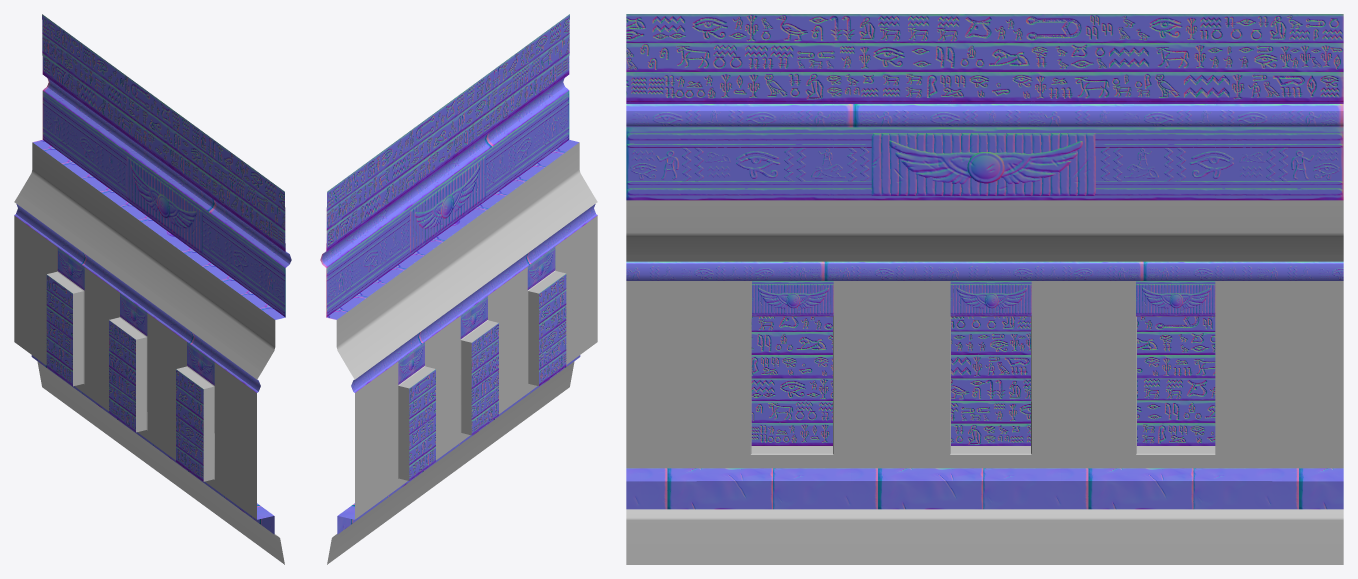
The model's file is Wall_Gaps.fbx.
3 views of the same model, side by side, from view 1: azimuth 30°, elevation 25°; view 2: azimuth 150°, elevation 25°; view 3: azimuth 270°, elevation 25° (orthographic). The views are drawn at different scales.
Visible parts, largest first — view 1: RoomWallGaped_Large; view 2: RoomWallGaped_Large; view 3: RoomWallGaped_Large.
Boxes of the visible parts, <box> form: RoomWallGaped_Large: <box>14,14,291,564</box>; RoomWallGaped_Large: <box>320,14,597,564</box>; RoomWallGaped_Large: <box>626,14,1343,564</box>.
Bounding box in the file's own units: 3.35 × 26.12 × 30.81.
